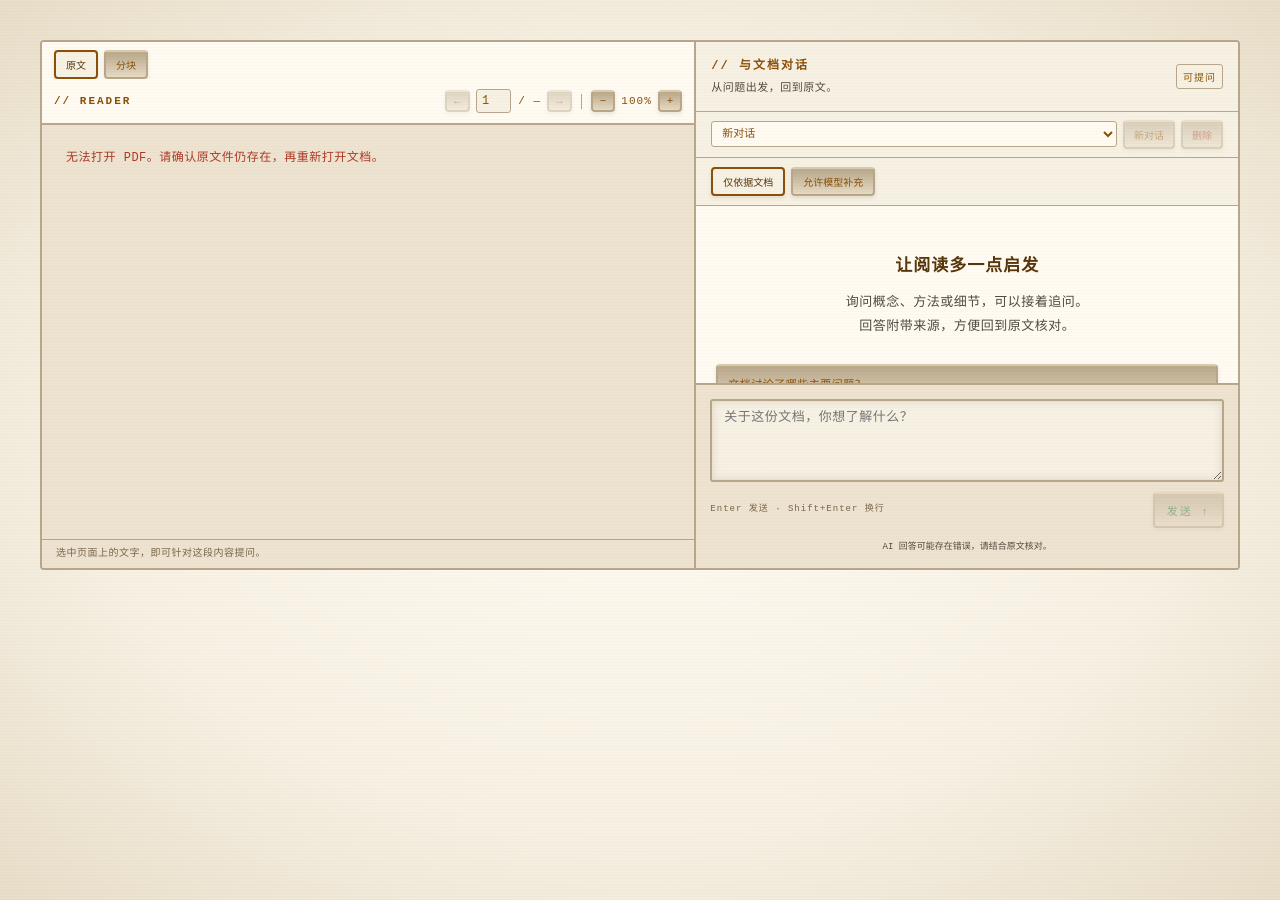
Scenario: Enter sends, Shift+Enter adds a newline, and empty questions do not send
This screenshot has width=1280, height=900.
Click the text box.
click(967, 440)  # box [710,399,1224,482]
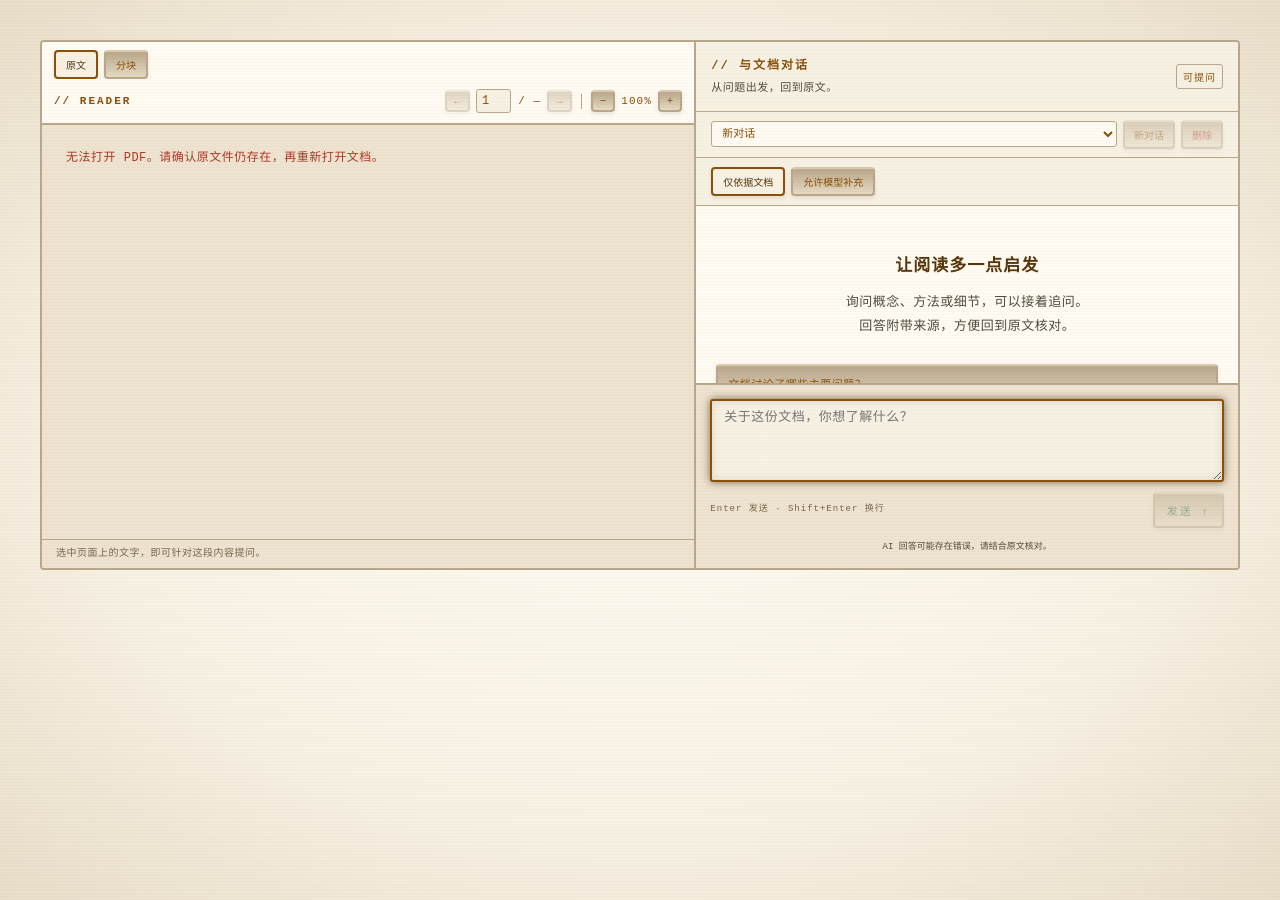
Press Enter
Type "First line" into the text box.
click(967, 440); type("First line")  # box [710,399,1224,482]
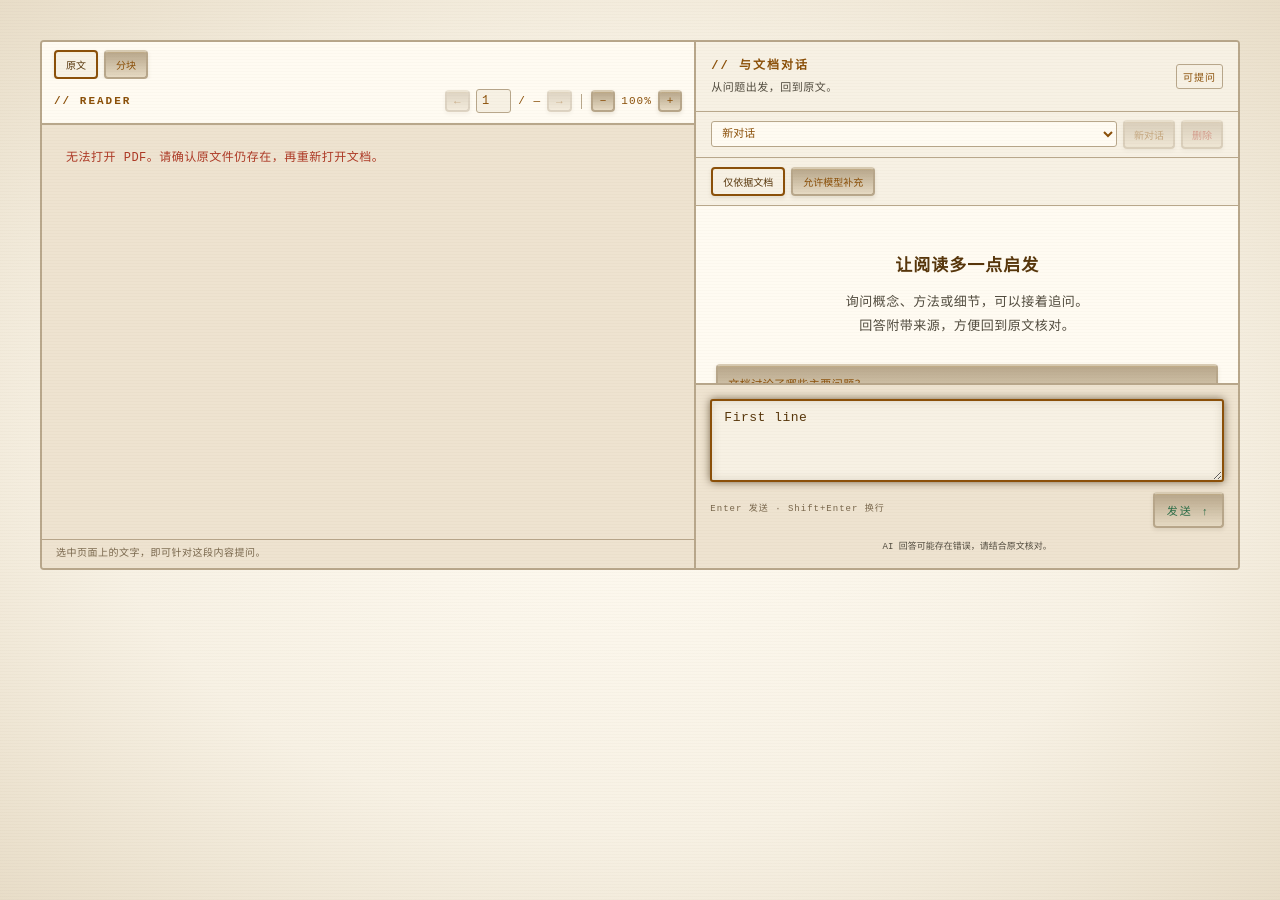
Type keys "{Shift>}{Enter}{/Shift}Second line"
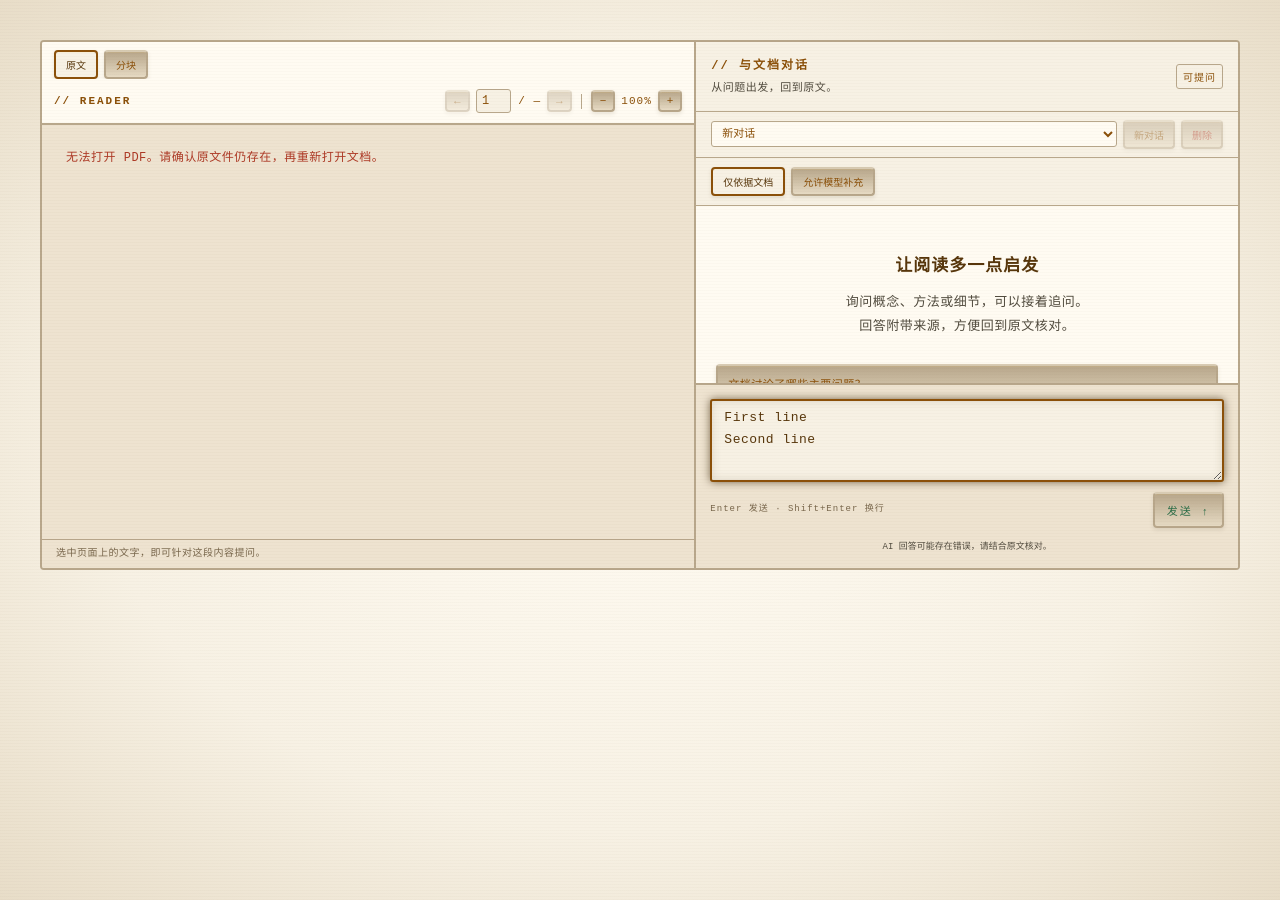
Press Enter
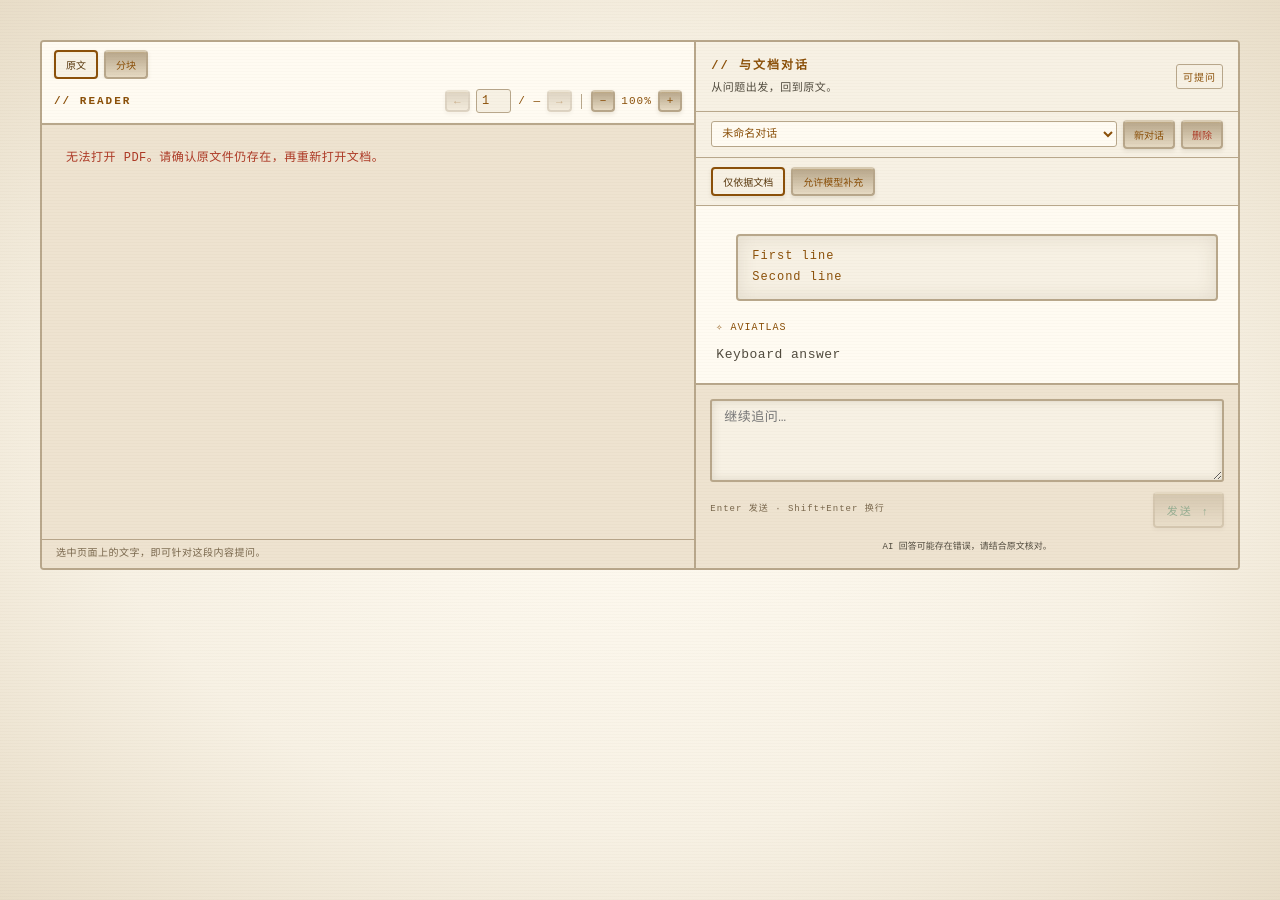
Now the text "Keyboard answer" is shown, box [716,347,841,362]
